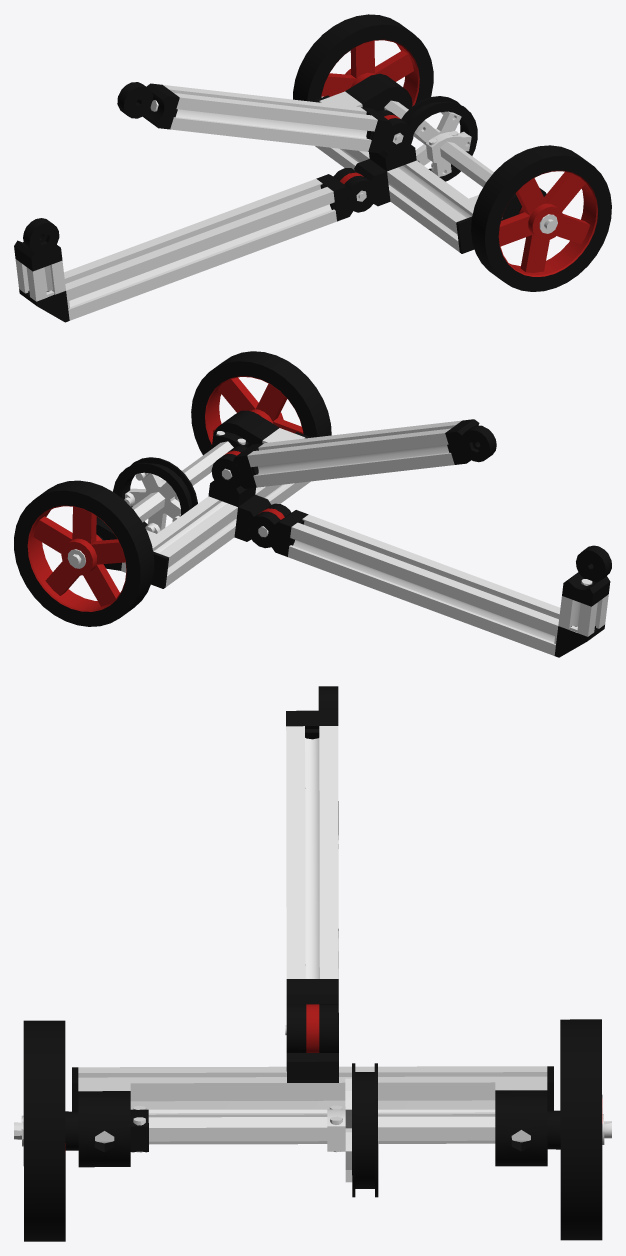
Rendered from Velo_infento_etape2.fbx.
3 views of the same model, one above another, from view 1: azimuth 30°, elevation 25°; view 2: azimuth 150°, elevation 25°; view 3: azimuth 270°, elevation 25° (orthographic). The views are drawn at different scales.
Parts seen in each view (by area): view 1: Velo_infento.002; view 2: Velo_infento.002; view 3: Velo_infento.002.
Boxes of the visible parts, left/top/right/bottom form: Velo_infento.002: left=14, top=14, right=611, bottom=322; Velo_infento.002: left=14, top=351, right=611, bottom=657; Velo_infento.002: left=14, top=686, right=611, bottom=1241.
Size of the model in its own units: 0.6621 by 0.2653 by 0.459.
